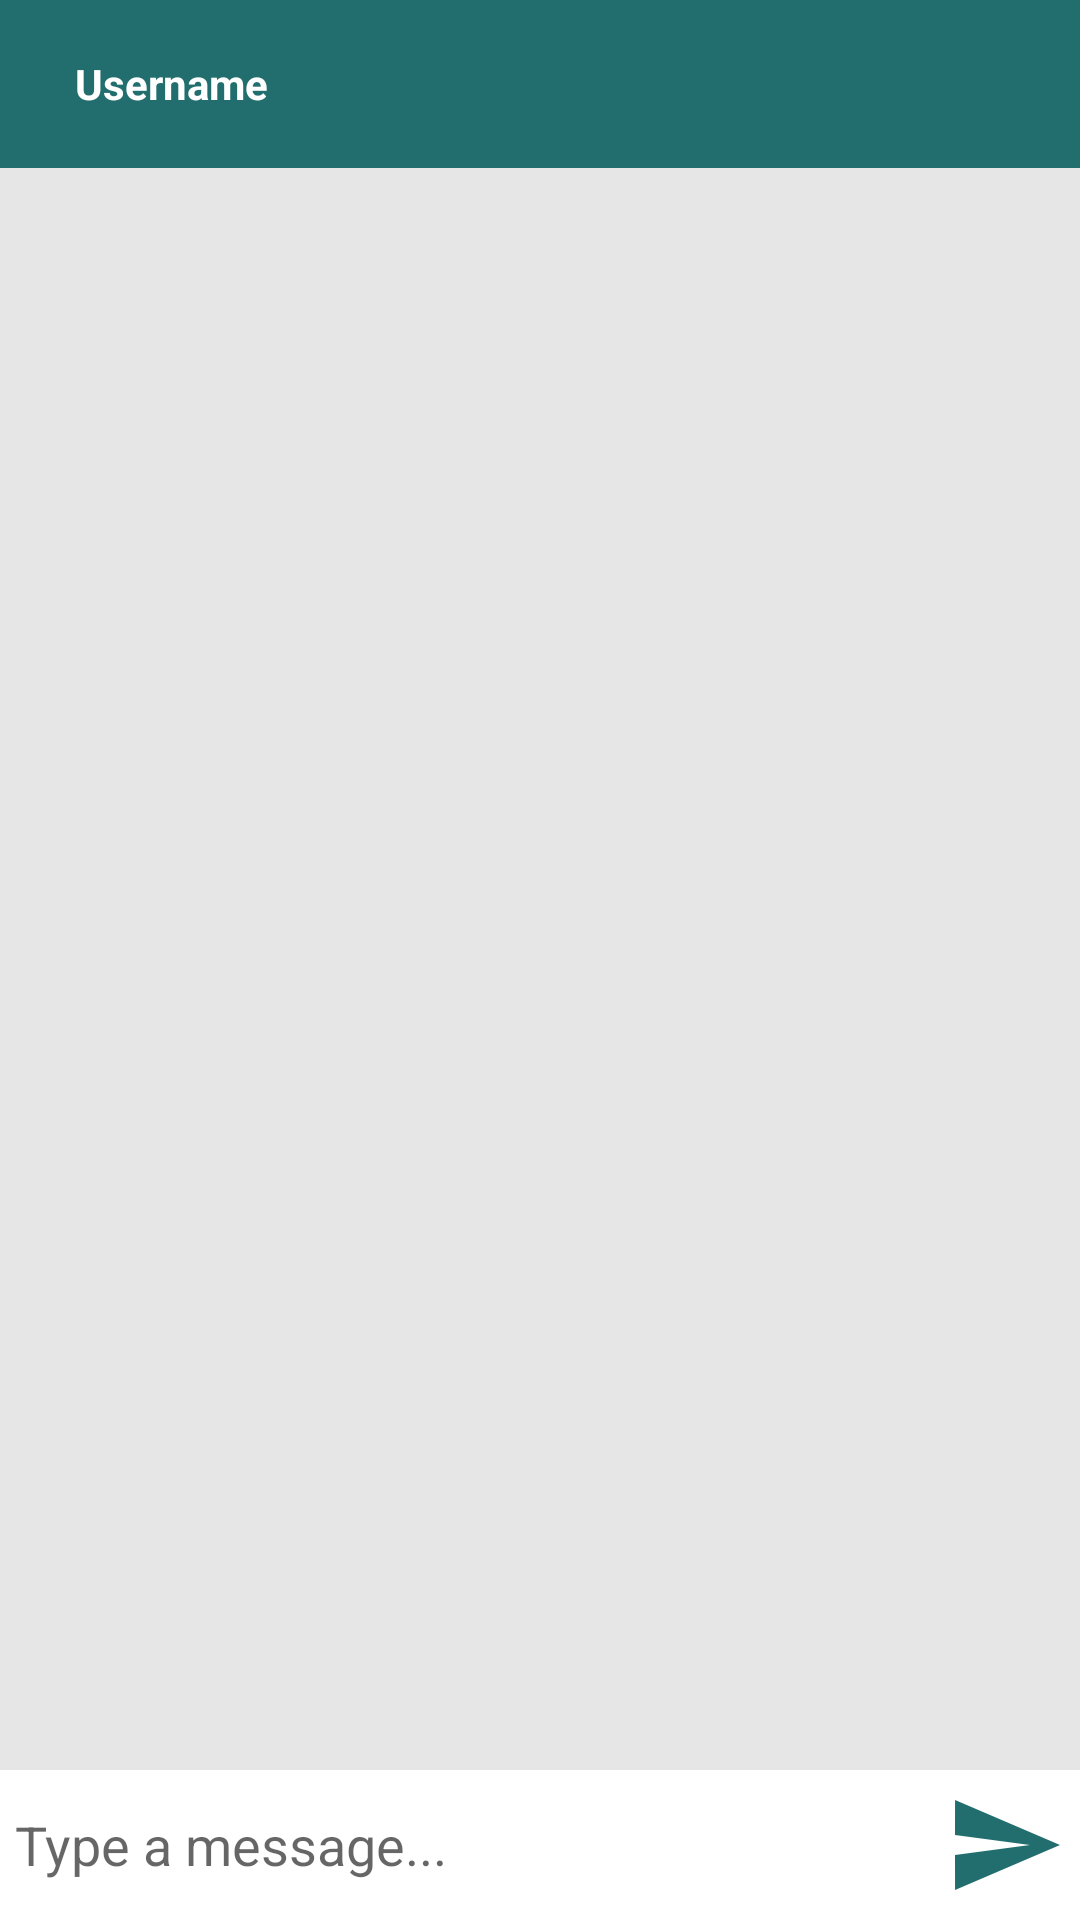

Icon bounding boxes for this 1080x1920 phone screenshot, format region(x1, y1, x2, y2):
send: region(955, 1800, 1060, 1890)
